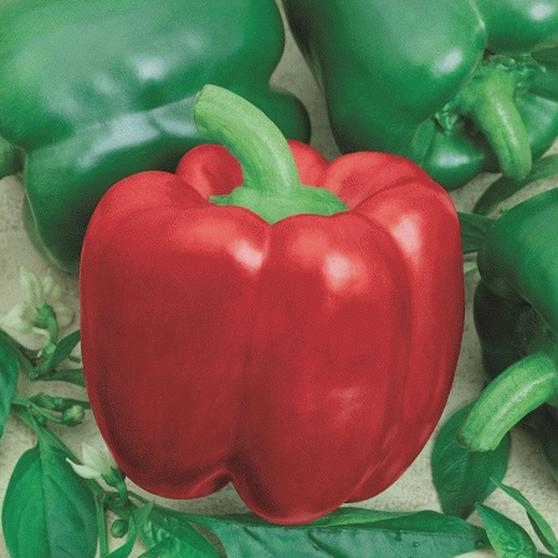pepper: (84, 142, 466, 515)
